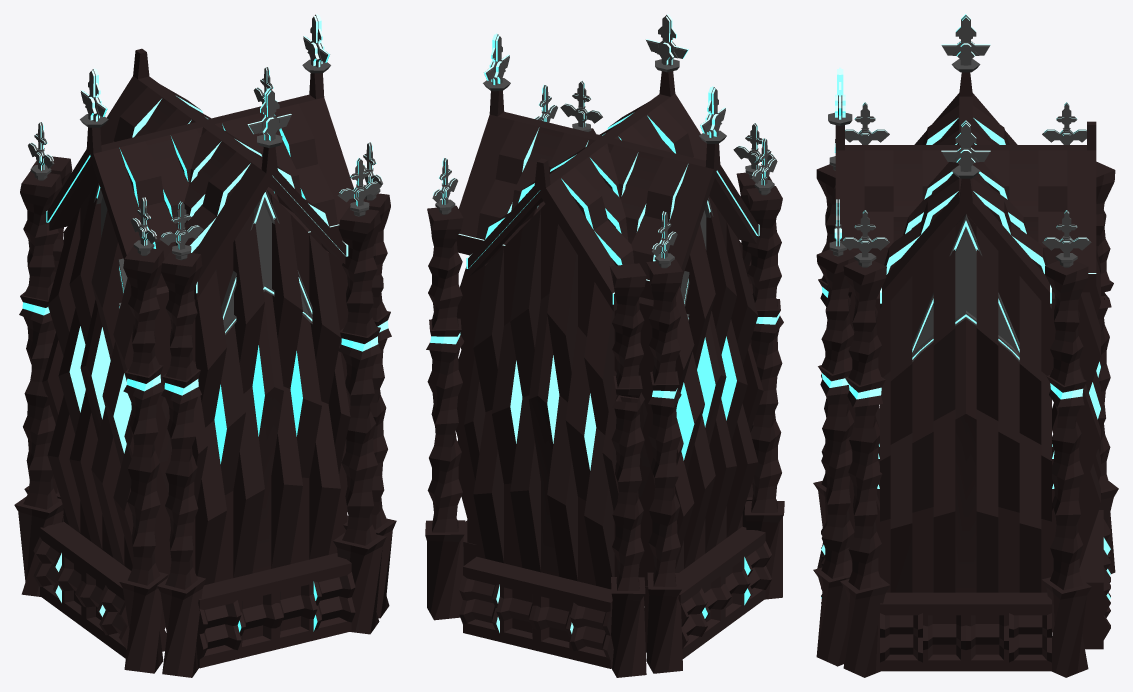
The model's file is Goth_8.glb.
The picture shows the model from 3 angles, left to right: view 1: azimuth 30°, elevation 25°; view 2: azimuth 150°, elevation 25°; view 3: azimuth 270°, elevation 25°; orthographic projection. The views are drawn at different scales.
Parts seen in each view (by area): view 1: WallWithWindow.022, WallWithWindow.025, Roof.017, Roof.018, Barrier.013, Pillar.028, Pillar.025, Pillar.026, Pillar.031, Barrier.019, Pillar.027, WallDecoration.022 (+10 smaller); view 2: WallWithWindow.024, WallWithWindow.025, Roof.017, Roof.018, Pillar.030, Barrier.018, Pillar.032_Metal_0, Pillar.031, Pillar.026, Barrier.019, WallWithWindow.023, Logo.045 (+9 smaller); view 3: WallWithWindow.023, Roof.018, Barrier.017, Roof.017, Pillar.030, Pillar.027, Pillar.028, WallWithWindow.024, WallDecoration.023, Pillar.032_Metal_0, Barrier.018, Pillar.025 (+8 smaller).
Boxes of the visible parts, x1,y1,x2,y2 form: WallWithWindow.022: (192, 190, 350, 585); WallWithWindow.025: (42, 181, 171, 577); Roof.017: (46, 73, 353, 288); Roof.018: (100, 48, 348, 300); Barrier.013: (196, 553, 355, 668); Pillar.028: (333, 207, 386, 634); Pillar.025: (157, 250, 205, 677); Pillar.026: (119, 246, 168, 673); Pillar.031: (14, 171, 63, 596); Barrier.019: (33, 522, 166, 658); Pillar.027: (343, 193, 396, 618); WallDecoration.022: (221, 190, 312, 334); WallWithWindow.024: (464, 204, 621, 589); WallWithWindow.025: (638, 196, 763, 586); Roof.017: (456, 91, 759, 300); Roof.018: (466, 71, 706, 311); Pillar.030: (425, 205, 465, 620); Barrier.018: (459, 556, 613, 668); Pillar.032_Metal_0: (610, 263, 646, 677); Pillar.031: (646, 259, 682, 673); Pillar.026: (744, 186, 784, 599); Barrier.019: (644, 526, 771, 658); WallWithWindow.023: (455, 255, 487, 544); Logo.045: (646, 14, 688, 72); WallWithWindow.023: (880, 214, 1051, 592); Roof.018: (835, 121, 1096, 292); Barrier.017: (880, 592, 1051, 671); Roof.017: (880, 72, 1051, 310); Pillar.030: (1041, 260, 1091, 677); Pillar.027: (840, 260, 890, 677); Pillar.028: (813, 249, 857, 666); WallWithWindow.024: (1052, 249, 1100, 573); WallDecoration.023: (912, 214, 1019, 361); Pillar.032_Metal_0: (1096, 161, 1118, 573); Barrier.018: (1079, 510, 1110, 649); Pillar.025: (813, 164, 835, 568).
Bounding box in the file's own units: 1246 × 2458 × 1246.
